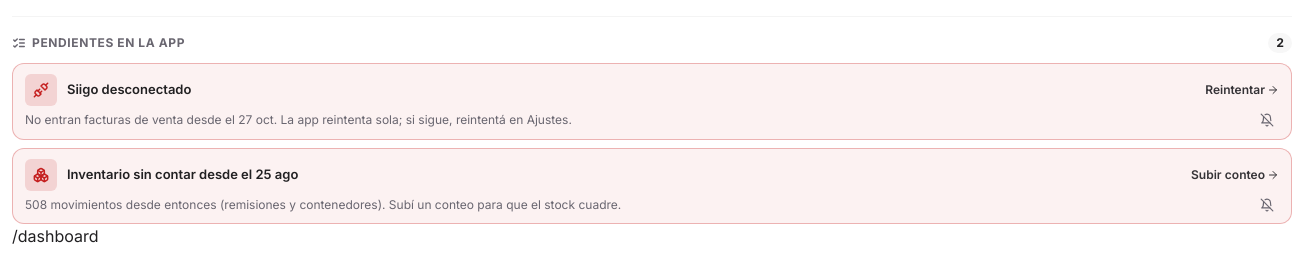
Scenario: PendientesApp › muestra los pendientes y el clic lleva a la pantalla donde se resuelve
This screenshot has width=1292, height=263.
Check: the text "Siigo desconectado" is shown, box [67,81,191,97]
Step 1. Click the text "Inventario sin contar desde el 25 ago" → (183, 174), box [67,166,298,182]
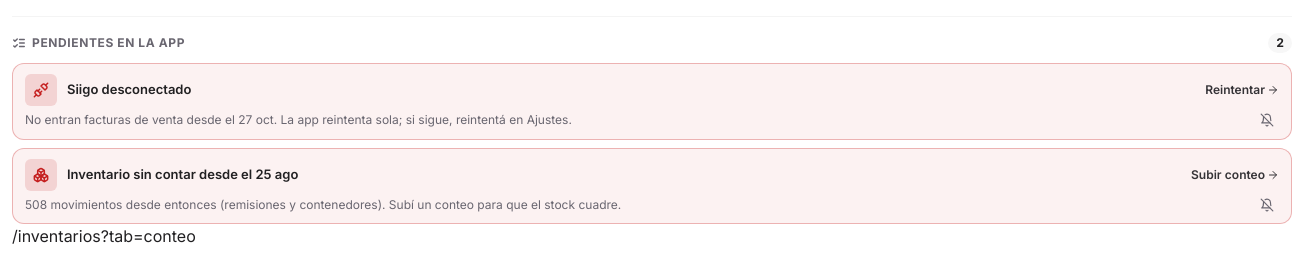
Check: the text with test id "ruta" reads "/inventarios?tab=conteo", box [12,226,196,246]
